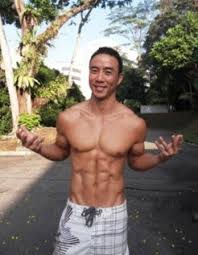asian_male: (85, 47, 125, 101)
